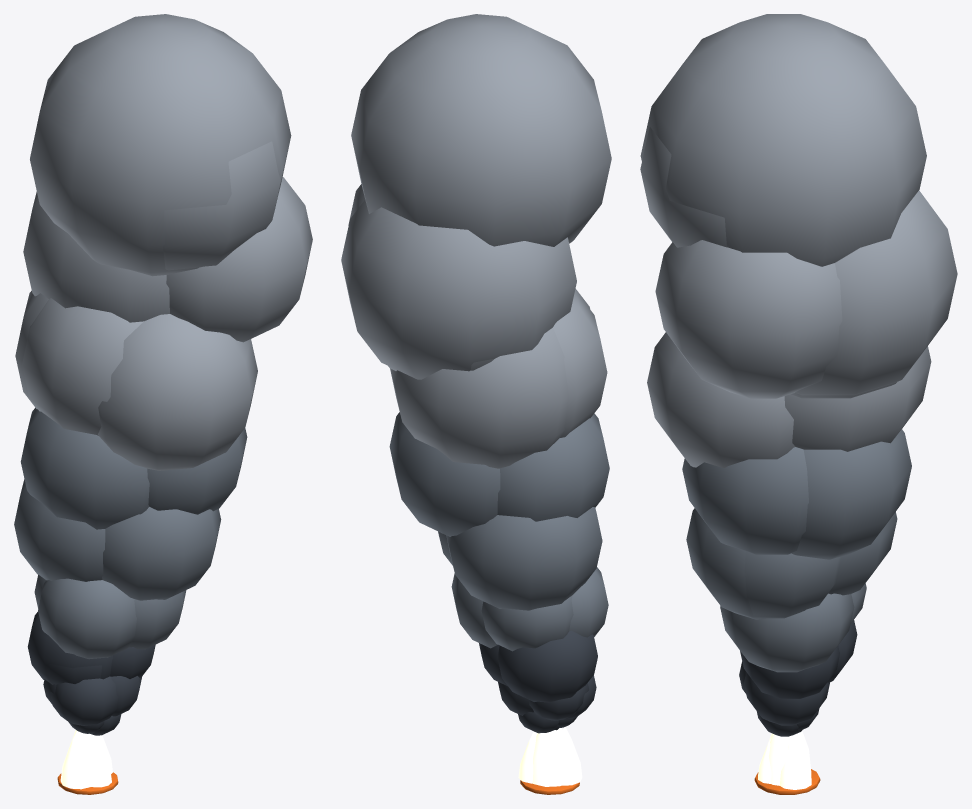
The model's file is efeito_fumaca_fogo.glb.
The picture shows the model from 3 angles, left to right: view 1: azimuth 30°, elevation 25°; view 2: azimuth 150°, elevation 25°; view 3: azimuth 270°, elevation 25°; orthographic projection. The views are drawn at different scales.
Visible parts, largest first — view 1: fumaca, chama; view 2: fumaca, chama; view 3: fumaca, chama, efeito_fumaca_fogo.
Boxes of the visible parts, x1,y1,x2,y2 form: fumaca: (14, 14, 312, 735); chama: (60, 730, 112, 789); fumaca: (341, 14, 611, 733); chama: (518, 727, 582, 786); fumaca: (640, 14, 957, 736); chama: (758, 731, 811, 789); efeito_fumaca_fogo: (754, 769, 820, 794).
Size of the model in its own units: 2.44 by 6.95 by 2.52.
2 materials, 1 textured.
